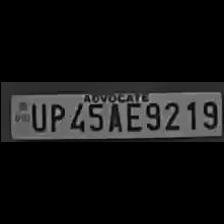1: (182, 98, 198, 130)
2: (160, 99, 182, 131)
4: (65, 100, 85, 132)
5: (84, 100, 104, 132)
9: (198, 97, 220, 128), (141, 100, 161, 130)
A: (104, 100, 122, 132)
E: (122, 100, 142, 132)
P: (44, 100, 64, 132)
U: (26, 100, 44, 132)
